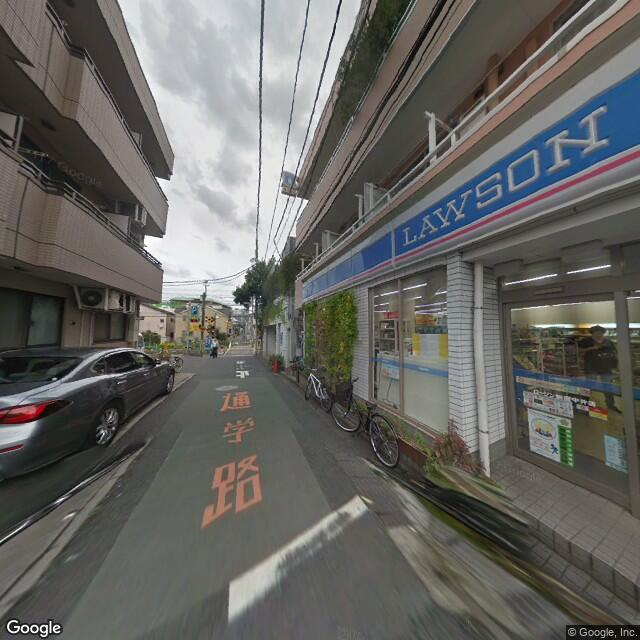lawson: (304, 38, 637, 307)
